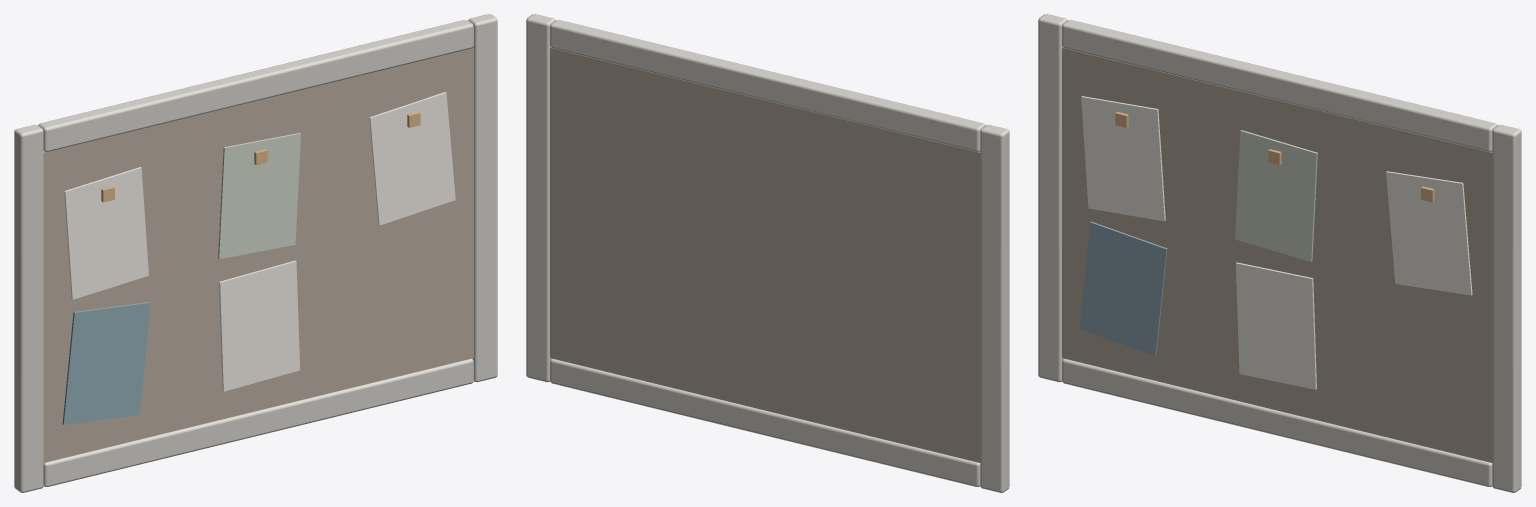
Rendered from notice-board.glb.
3 renders of one model, left to right at view 1: azimuth 30°, elevation 25°; view 2: azimuth 150°, elevation 25°; view 3: azimuth 330°, elevation 25°, orthographic.
Visible parts, largest first — view 1: 157-notice-board/1, 157-notice-board/0, 157-notice-board/2, 157-notice-board/4, 157-notice-board/3, 157-notice-board/5; view 2: 157-notice-board/1, 157-notice-board/0; view 3: 157-notice-board/1, 157-notice-board/0, 157-notice-board/2, 157-notice-board/4, 157-notice-board/3, 157-notice-board/5.
Boxes of the visible parts, x1=… form: 157-notice-board/1: x1=43, y1=47, x2=473, y2=462; 157-notice-board/0: x1=14, y1=14, x2=497, y2=492; 157-notice-board/2: x1=64, y1=92, x2=455, y2=391; 157-notice-board/4: x1=62, y1=302, x2=150, y2=424; 157-notice-board/3: x1=218, y1=133, x2=300, y2=259; 157-notice-board/5: x1=101, y1=112, x2=420, y2=202; 157-notice-board/1: x1=550, y1=47, x2=980, y2=462; 157-notice-board/0: x1=526, y1=14, x2=1009, y2=492; 157-notice-board/1: x1=1062, y1=47, x2=1492, y2=462; 157-notice-board/0: x1=1038, y1=14, x2=1521, y2=492; 157-notice-board/2: x1=1081, y1=96, x2=1472, y2=389; 157-notice-board/4: x1=1079, y1=221, x2=1167, y2=355; 157-notice-board/3: x1=1235, y1=130, x2=1317, y2=261; 157-notice-board/5: x1=1115, y1=112, x2=1434, y2=202.
Bounding box in the file's own units: 1 × 0.7201 × 0.037.
